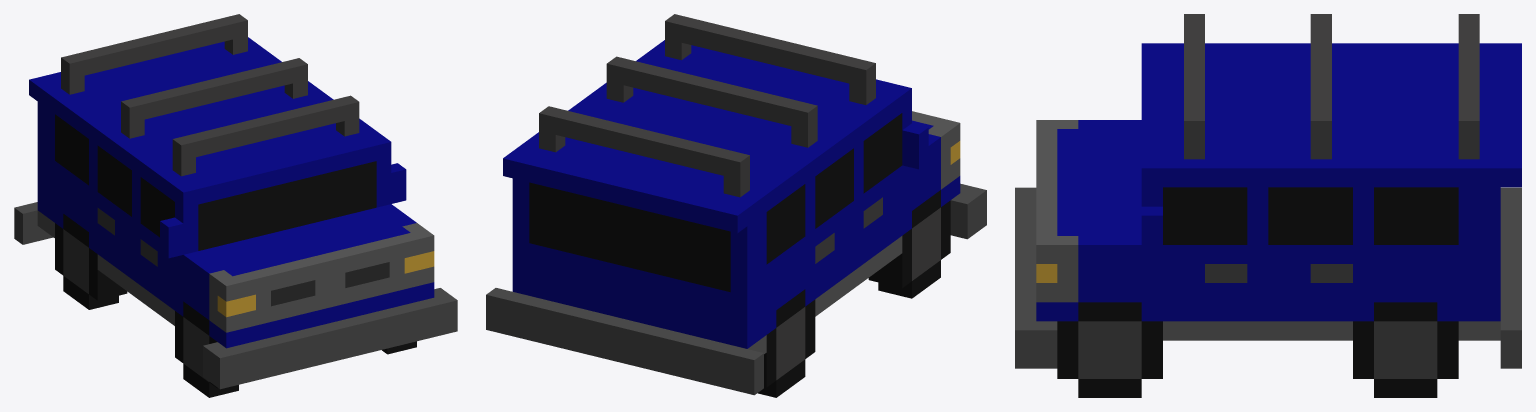
File: jeep_blue.fbx
3 views of the same model, side by side, from view 1: azimuth 30°, elevation 25°; view 2: azimuth 150°, elevation 25°; view 3: azimuth 270°, elevation 25° (orthographic). The views are drawn at different scales.
Visible parts, largest first — view 1: Matrix_3; view 2: Matrix_3; view 3: Matrix_3.
Boxes of the visible parts, x1,y1,x2,y2 form: Matrix_3: (14, 14, 457, 397); Matrix_3: (486, 14, 986, 397); Matrix_3: (1015, 14, 1521, 397).
Size of the model in its own units: 16 by 14 by 24.
